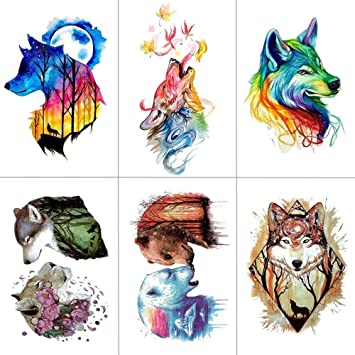Lobo: (246, 10, 343, 147), (2, 197, 127, 262), (2, 25, 85, 113), (139, 53, 203, 148), (261, 197, 331, 273), (42, 119, 65, 142), (286, 296, 311, 317)
